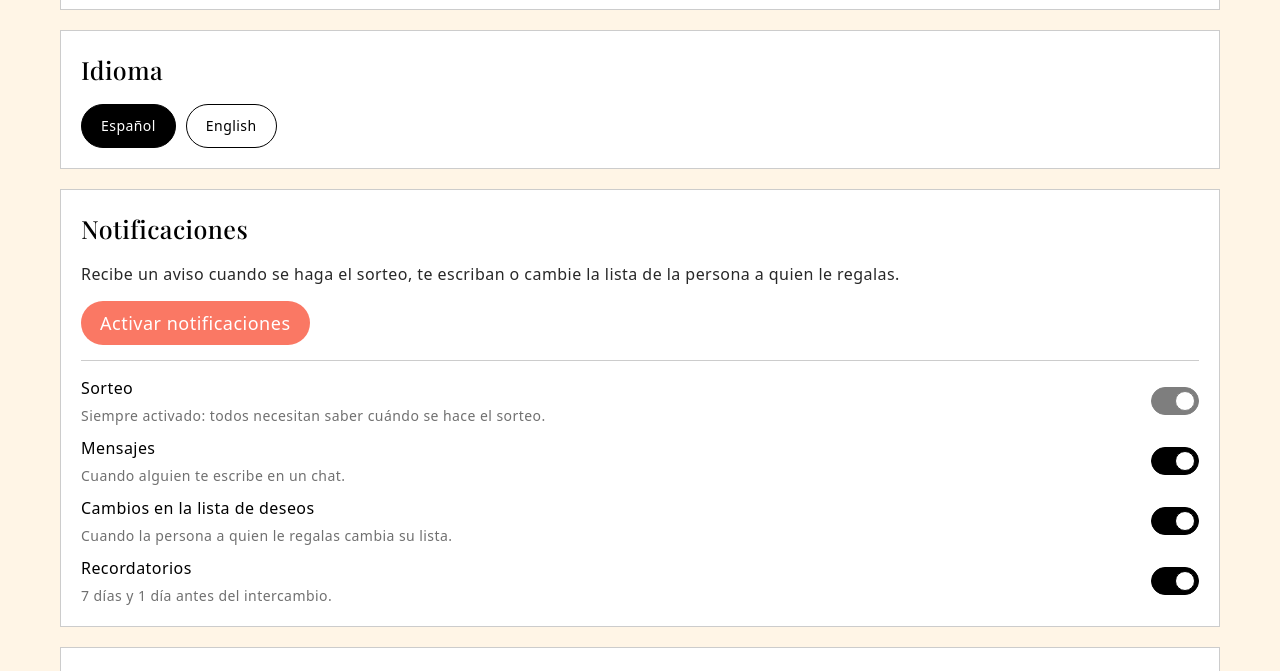
Test: Profile › Notifications › Enable: asks from the click, subscribes with the VAPID key and registers the device
(page scrolled)
Click the button "Activar notificaciones" at (195, 323), box [81, 301, 310, 345]
(page scrolled)
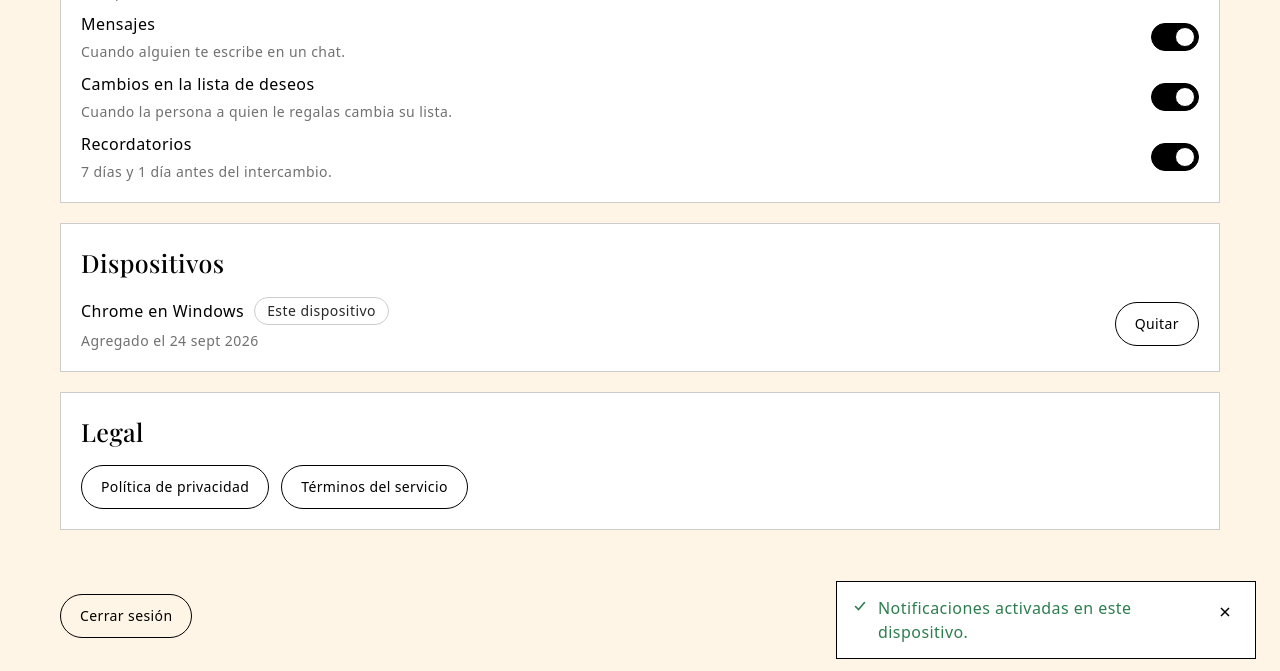
Expected: the text "Notificaciones activadas en este dispositivo." is shown, [878, 597, 1132, 643]
Expected: the button "Activar notificaciones" is gone
Expected: the list item that starts with "Chrome en Windows" is shown, [81, 300, 244, 322]
